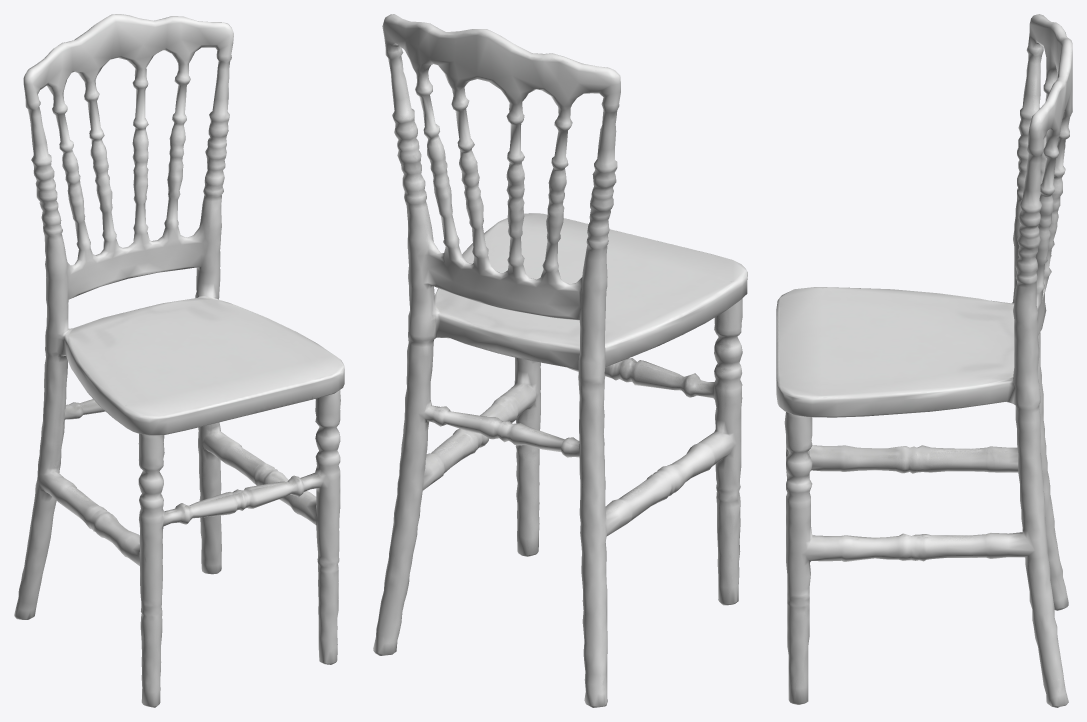
The model's file is Chair_Napoleon_White_0320031652_texture.glb.
3 renders of one model, left to right at view 1: azimuth 30°, elevation 25°; view 2: azimuth 150°, elevation 25°; view 3: azimuth 270°, elevation 25°, orthographic. The views are drawn at different scales.
Visible parts, largest first — view 1: Mesh_0.001; view 2: Mesh_0.001; view 3: Mesh_0.001.
Part boxes in pixels (left/top/right/bottom): Mesh_0.001: left=14, top=14, right=344, bottom=707; Mesh_0.001: left=373, top=14, right=747, bottom=707; Mesh_0.001: left=776, top=14, right=1072, bottom=707.
Size of the model in its own units: 0.3586 by 0.9144 by 0.3999.
1 material, 1 textured.
